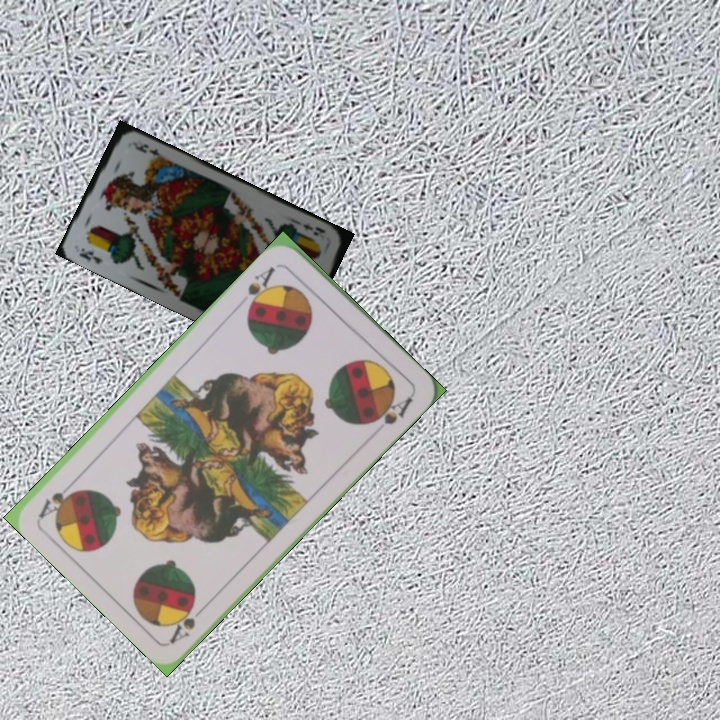EK: (75, 244, 105, 267), (299, 219, 328, 238)
SA: (165, 597, 212, 646), (243, 262, 278, 314)
